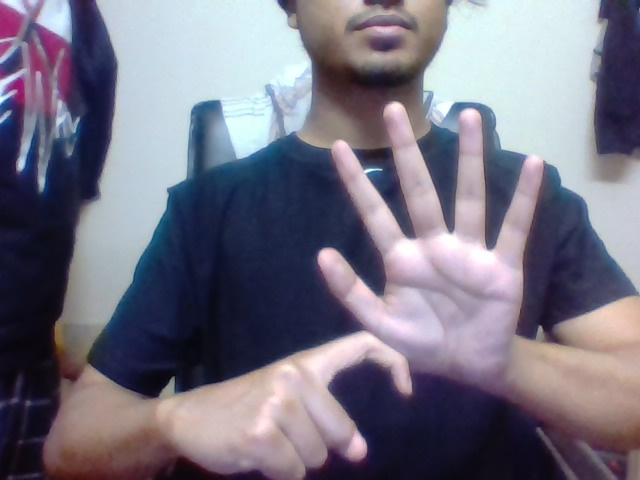R: (293, 329, 413, 462)
